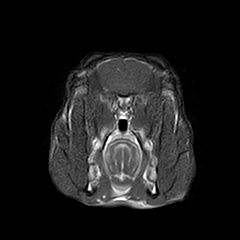Brain: (75, 23, 174, 121)
